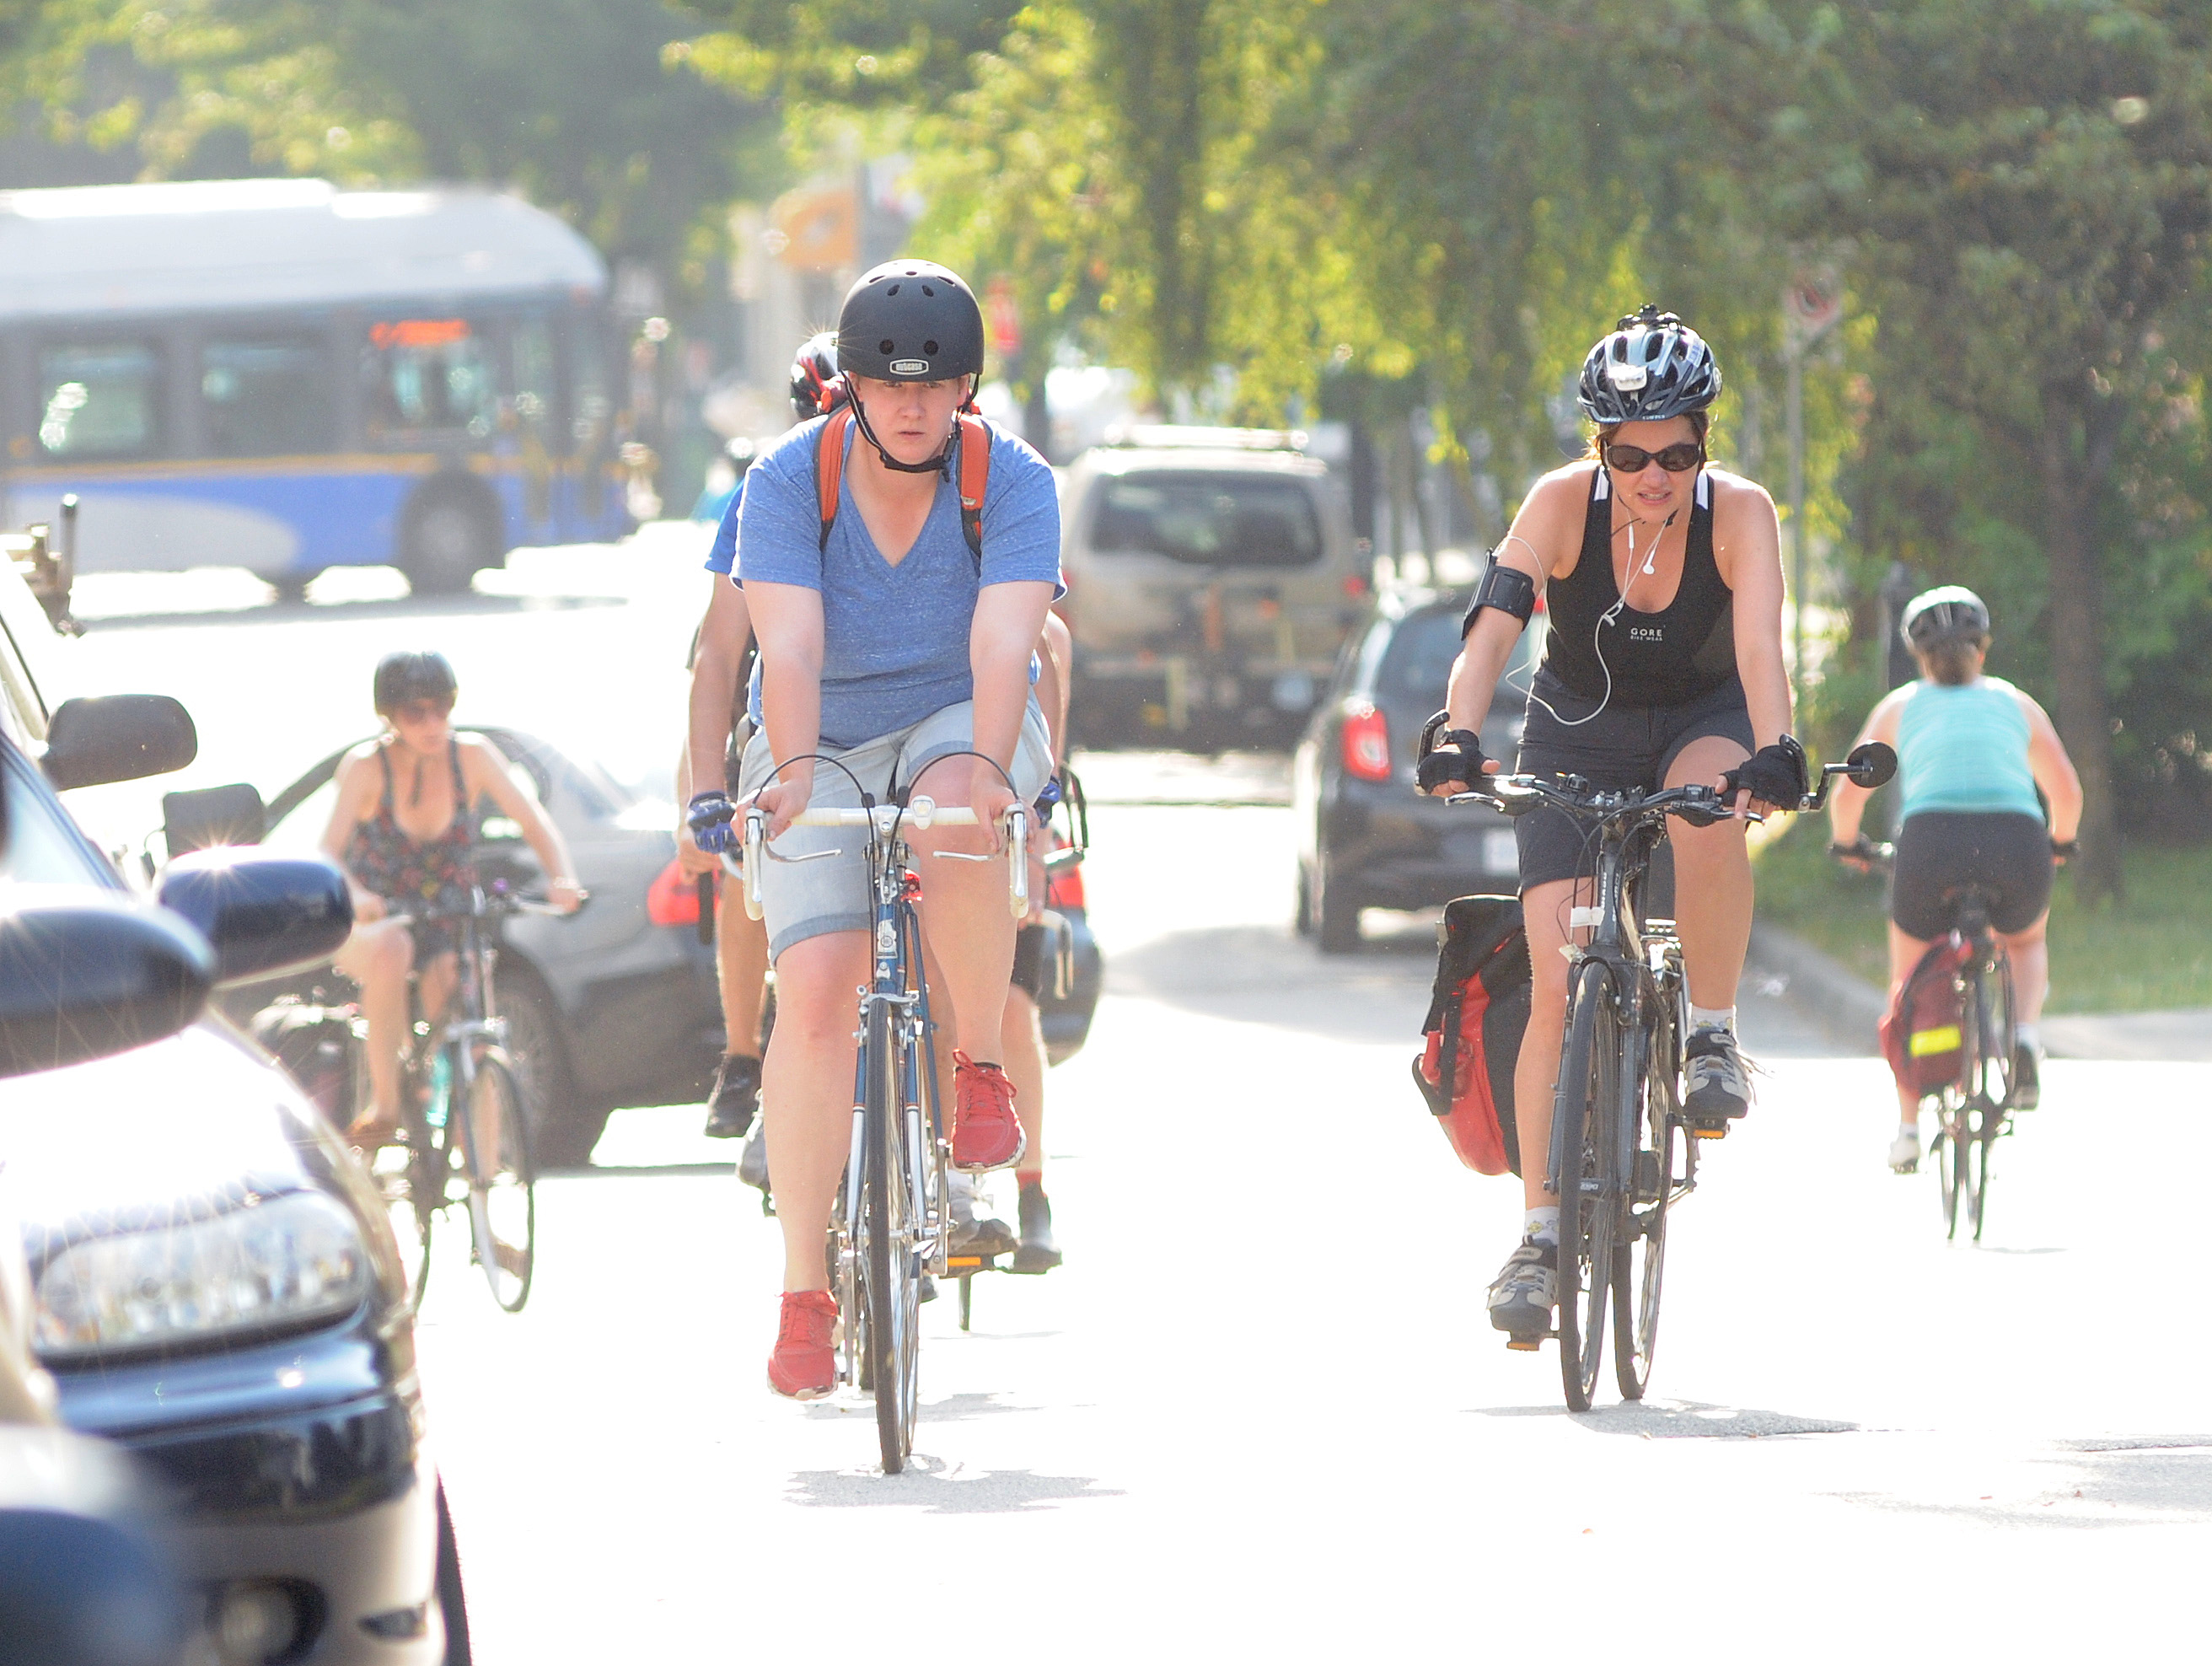commuter: (1403, 315, 1834, 1428), (714, 257, 1057, 1474), (1818, 590, 2088, 1258), (324, 660, 593, 1319)
